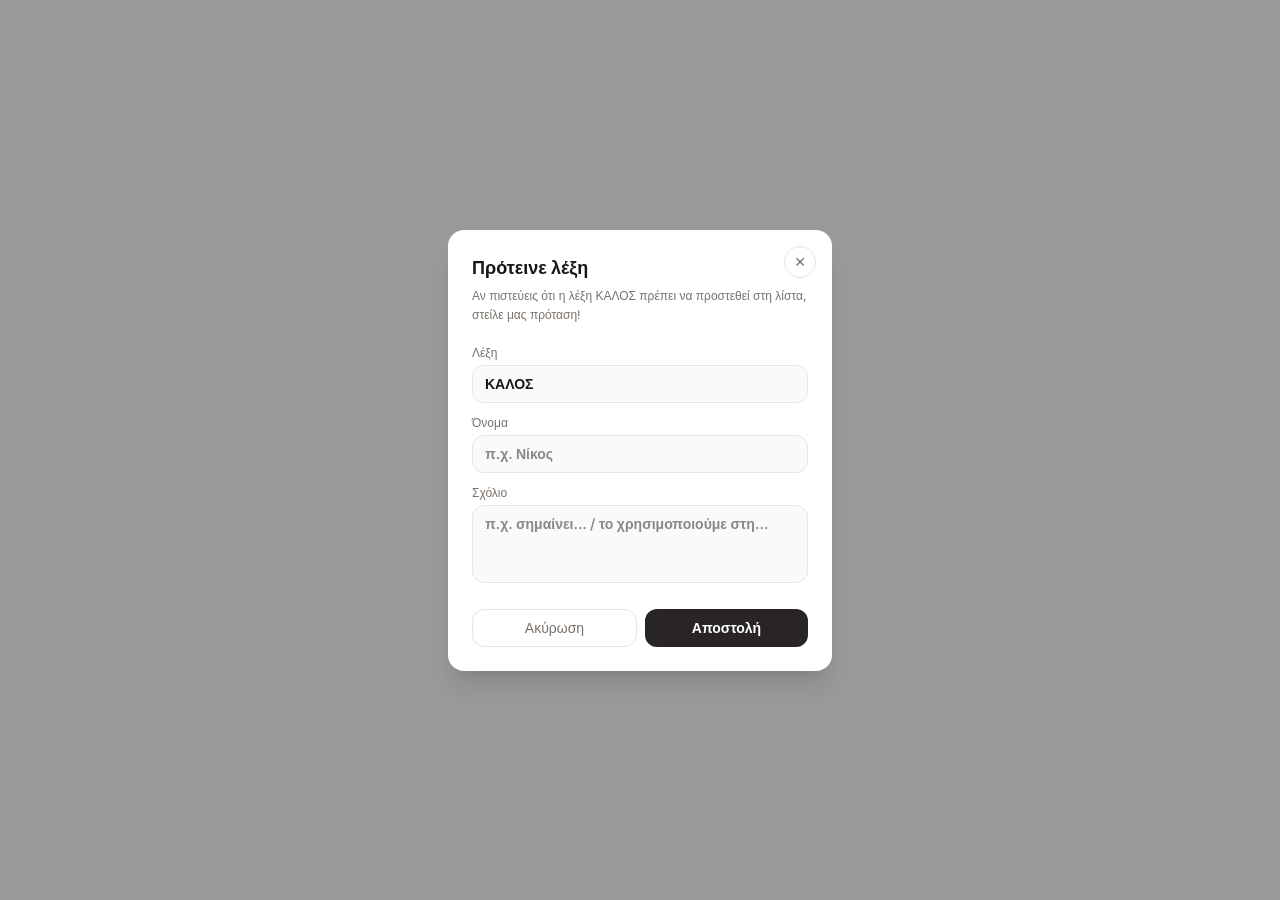
Test: NominationModal — submission › shows success state after a successful POST
Step 1. Type "Νίκος" into the field with test id "nomination-modal-name" → {"x": 640, "y": 454}, box [472,434,808,472]
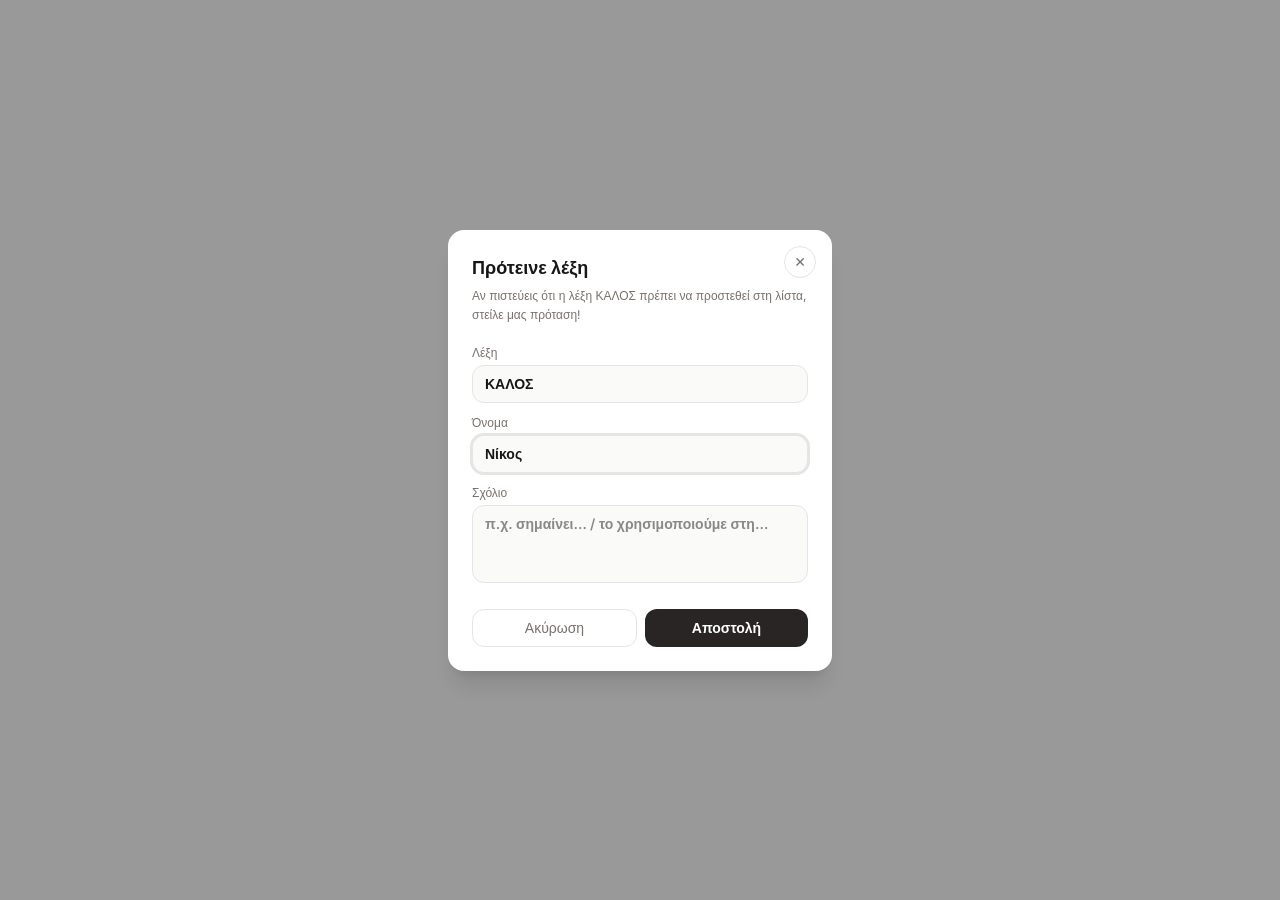
Step 2. Type "μια κανονική εξήγηση" into the text box with test id "nomination-modal-note" → {"x": 640, "y": 544}, box [472,504,808,582]
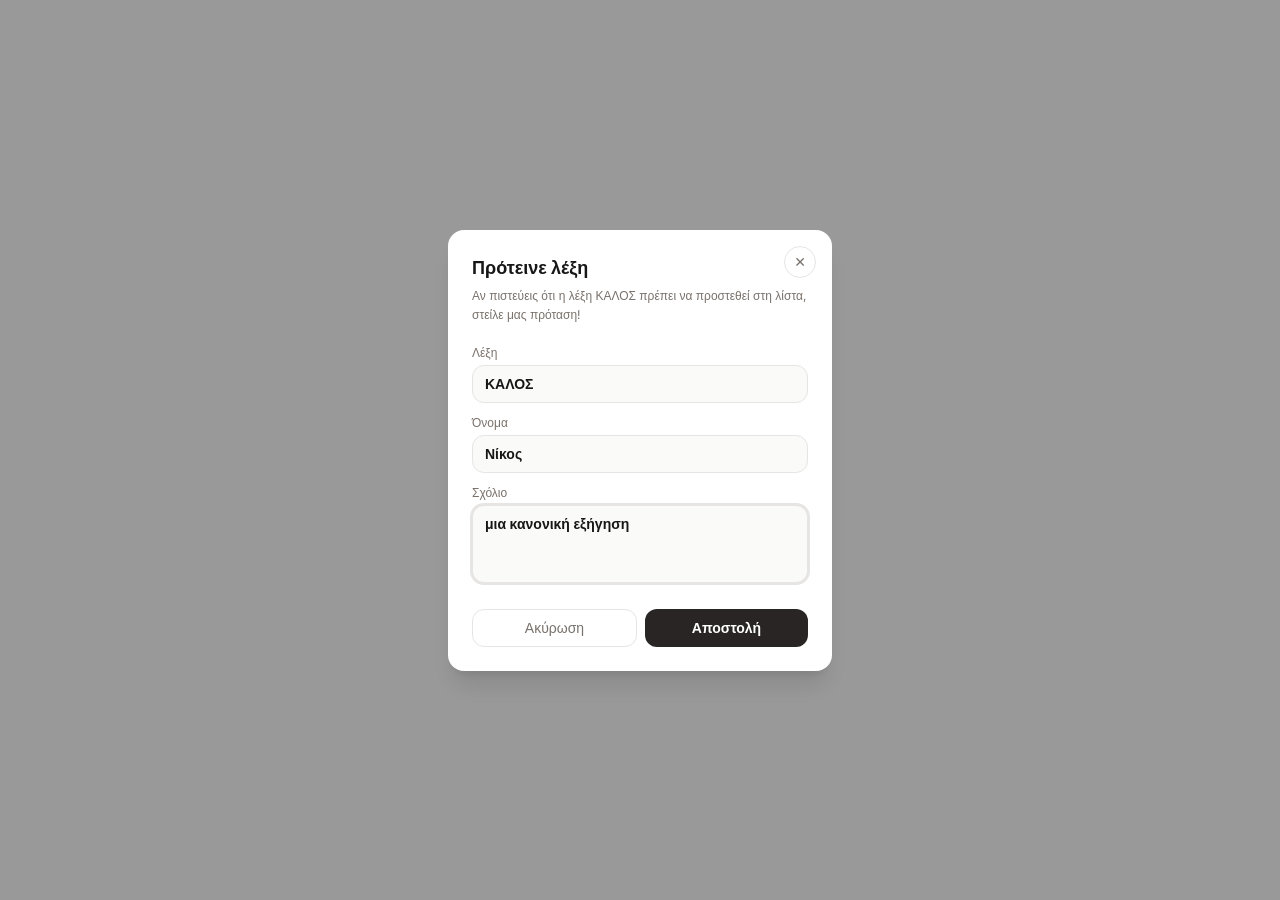
Step 3. Click the button with test id "nomination-modal-submit" → {"x": 726, "y": 628}, box [645,608,808,646]
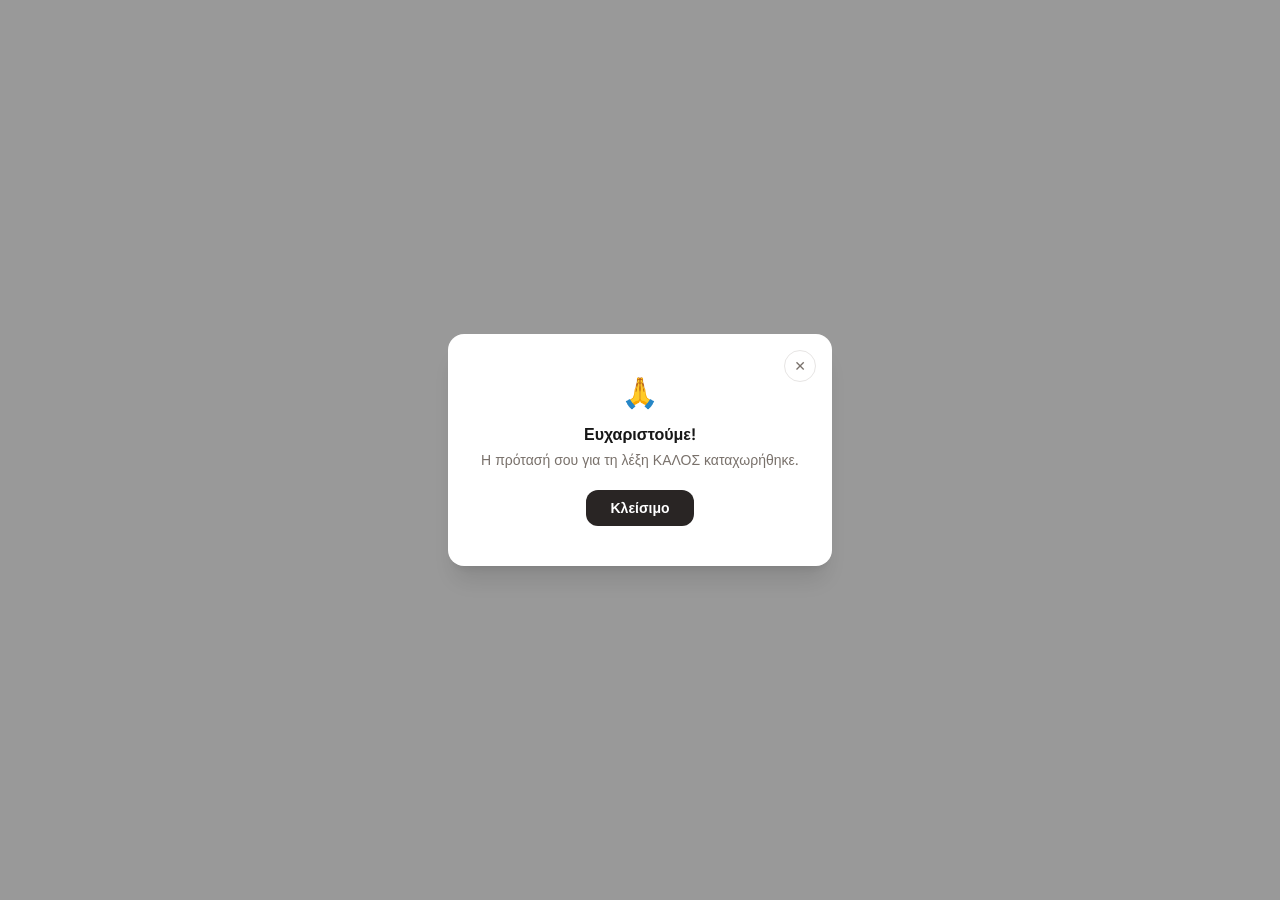
Now the element with test id "nomination-modal-success" is shown, box [472,358,808,542]
